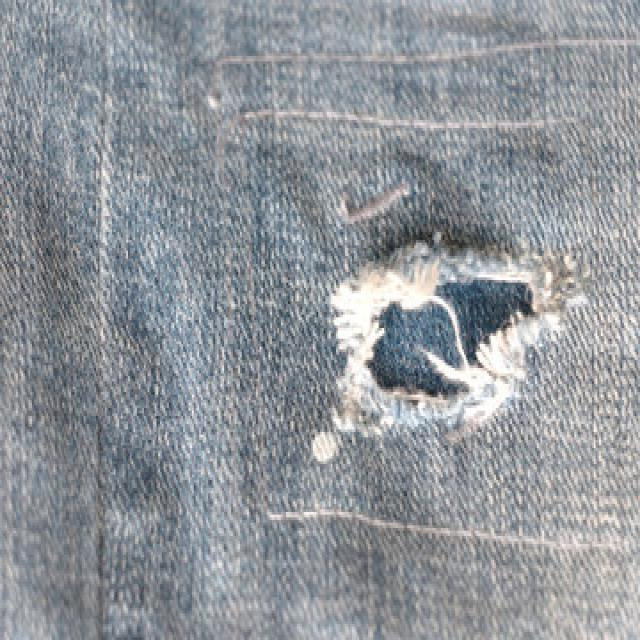Hole: (331, 239, 587, 438)
Knot: (338, 183, 411, 224)
Line: (75, 0, 113, 640), (267, 511, 625, 552), (217, 36, 640, 66), (238, 109, 576, 130)
Stain: (312, 433, 339, 464)
